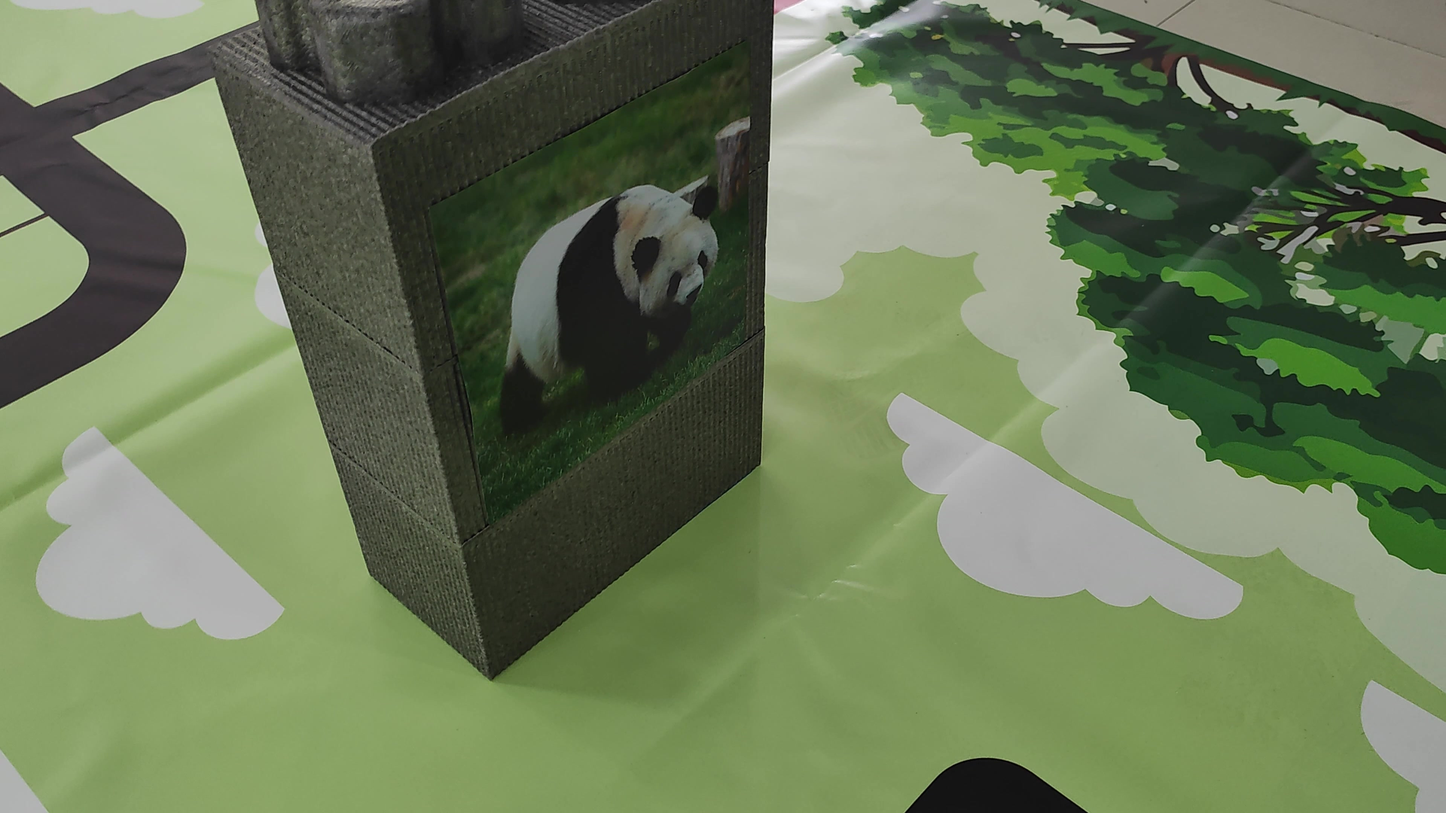panda: (475, 161, 753, 393)
